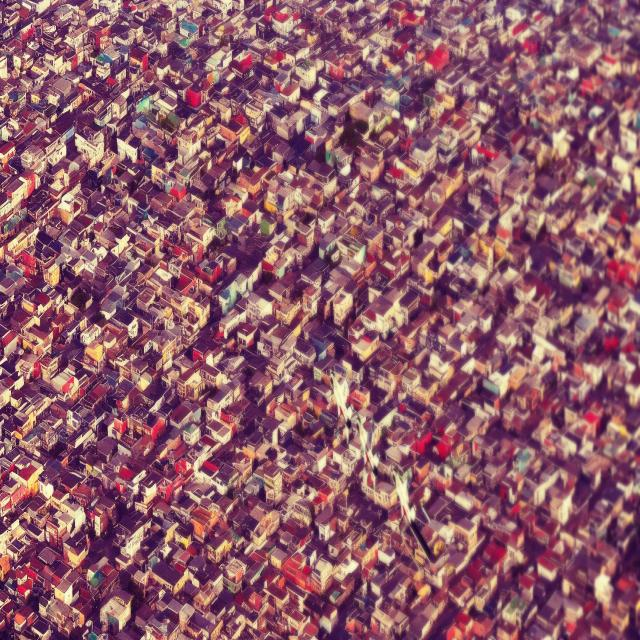airplane: (389, 465, 454, 573), (328, 373, 354, 444), (356, 419, 379, 489)
